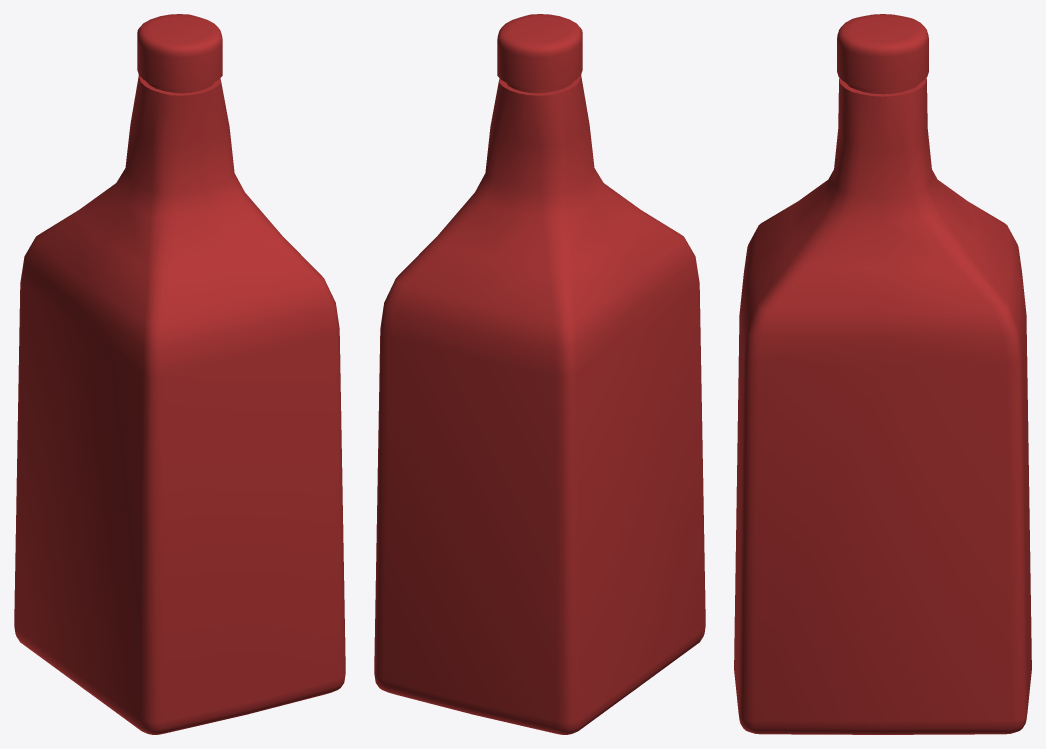
Rendered from mesh_bottle_01.fbx.
3 views of the same model, side by side, from view 1: azimuth 30°, elevation 25°; view 2: azimuth 150°, elevation 25°; view 3: azimuth 270°, elevation 25° (orthographic). The views are drawn at different scales.
Parts seen in each view (by area): view 1: mesh_bottle_01; view 2: mesh_bottle_01; view 3: mesh_bottle_01.
Boxes of the visible parts, bbox=[...] form: mesh_bottle_01: bbox=[14, 14, 345, 734]; mesh_bottle_01: bbox=[374, 14, 705, 734]; mesh_bottle_01: bbox=[734, 14, 1031, 734].
Size of the model in its own units: 6.17 by 18.22 by 7.47.
